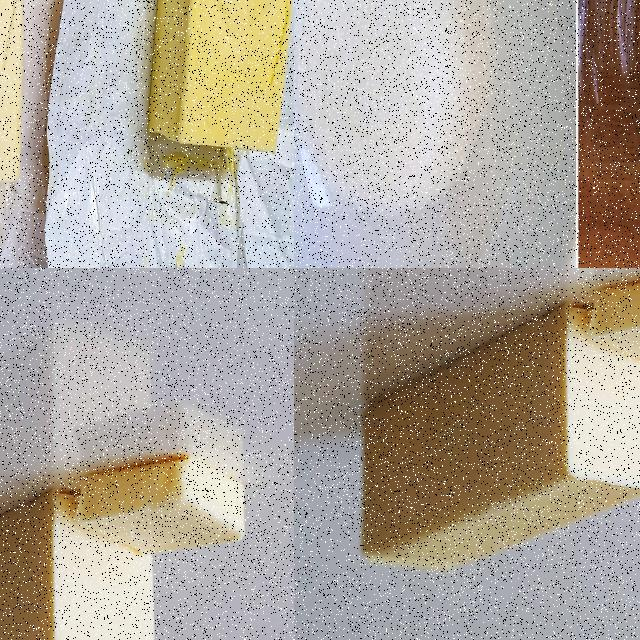butter: (361, 302, 639, 577), (0, 488, 158, 639), (148, 0, 293, 153), (76, 462, 250, 561), (589, 276, 639, 376)
